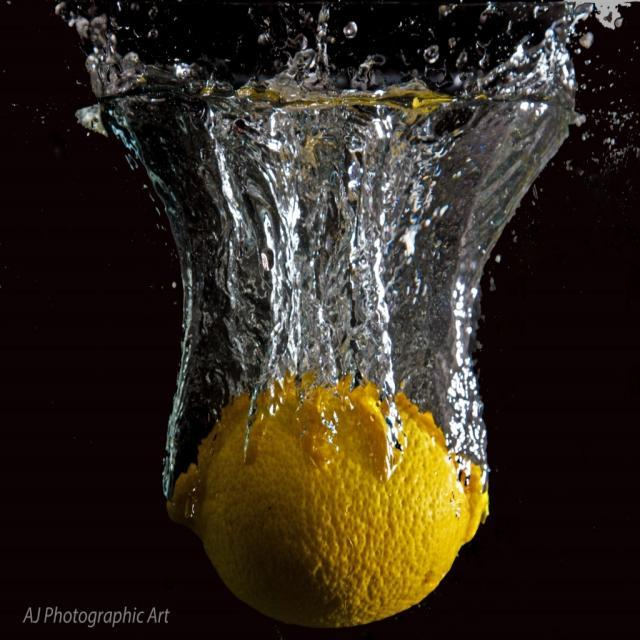Orange: (172, 373, 472, 618)
